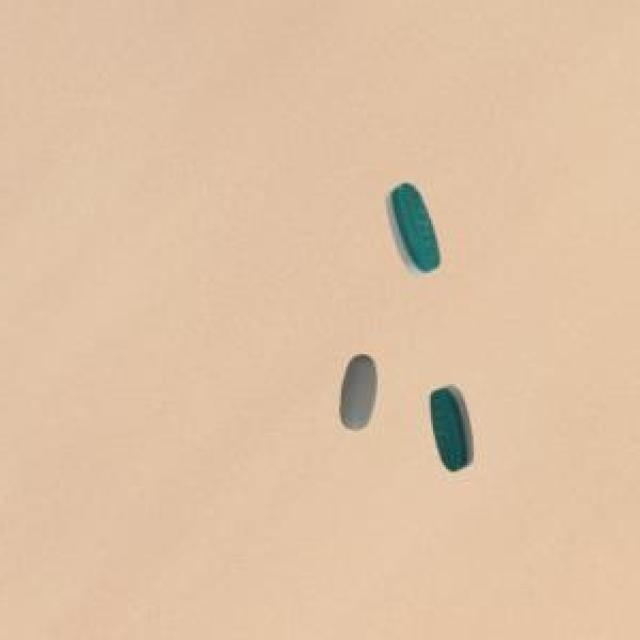Neozep: (380, 170, 453, 288), (414, 376, 486, 477), (332, 342, 384, 443)
